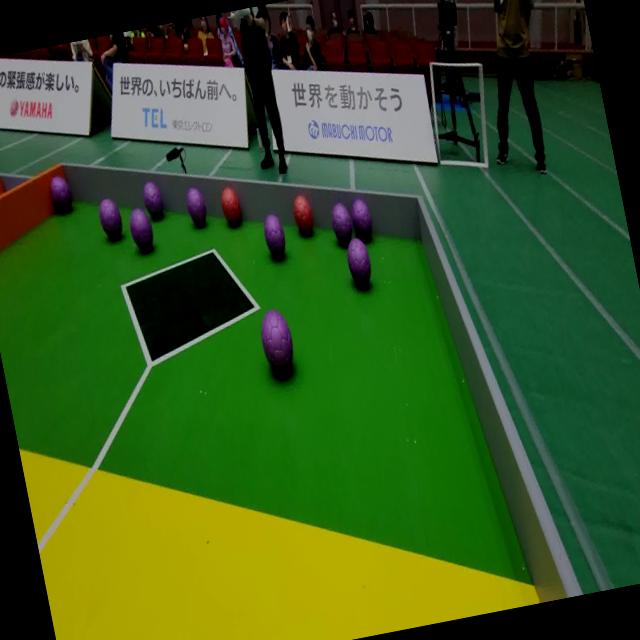purple_ball: (258, 306, 300, 378), (342, 233, 377, 293), (96, 192, 128, 245), (125, 202, 156, 256), (260, 210, 290, 262), (326, 197, 356, 244), (46, 172, 76, 216), (183, 185, 211, 232), (139, 176, 167, 222), (348, 193, 376, 238)
red_ball: (290, 192, 318, 242), (217, 182, 245, 229)
